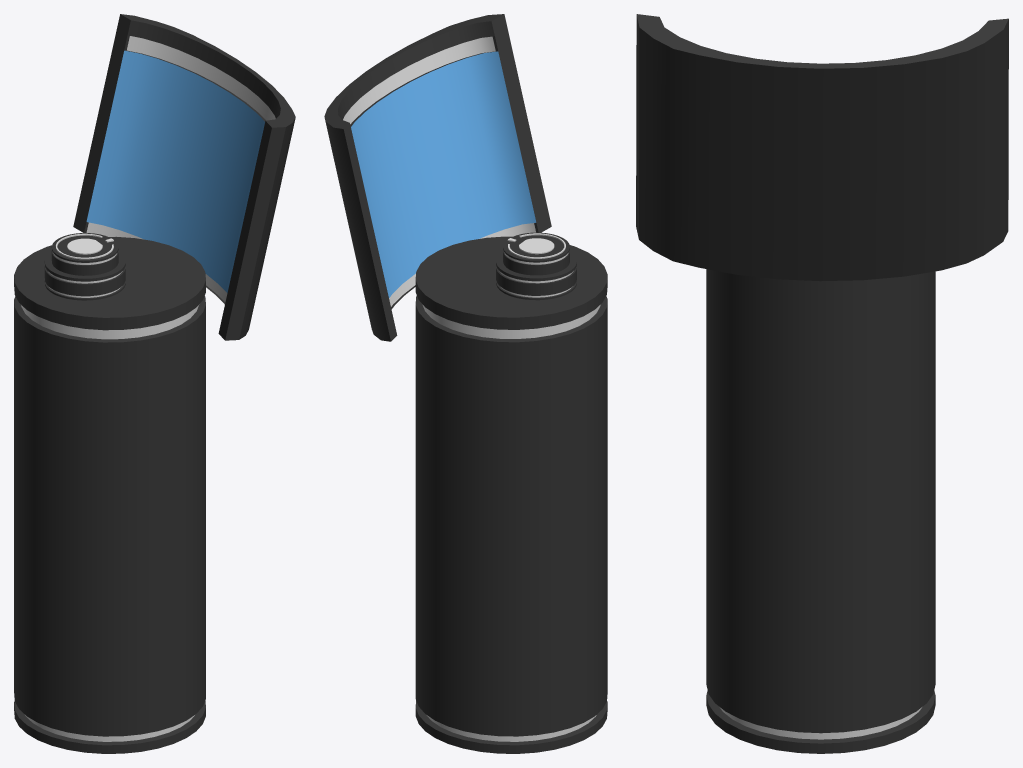
File: NewTerminal.fbx
3 renders of one model, left to right at view 1: azimuth 30°, elevation 25°; view 2: azimuth 150°, elevation 25°; view 3: azimuth 270°, elevation 25°, orthographic. The views are drawn at different scales.
Visible parts, largest first — view 1: Circle.001; view 2: Circle.001; view 3: Circle.001.
Boxes of the visible parts, x1,y1,x2,y2 form: Circle.001: (14, 14, 295, 753); Circle.001: (324, 14, 607, 753); Circle.001: (636, 14, 1008, 753).
Size of the model in its own units: 275 by 713 by 326.
